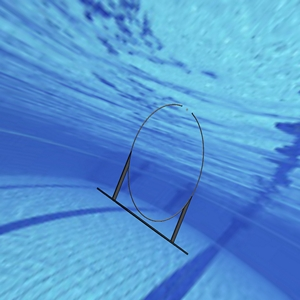circle: (96, 102, 205, 256)
